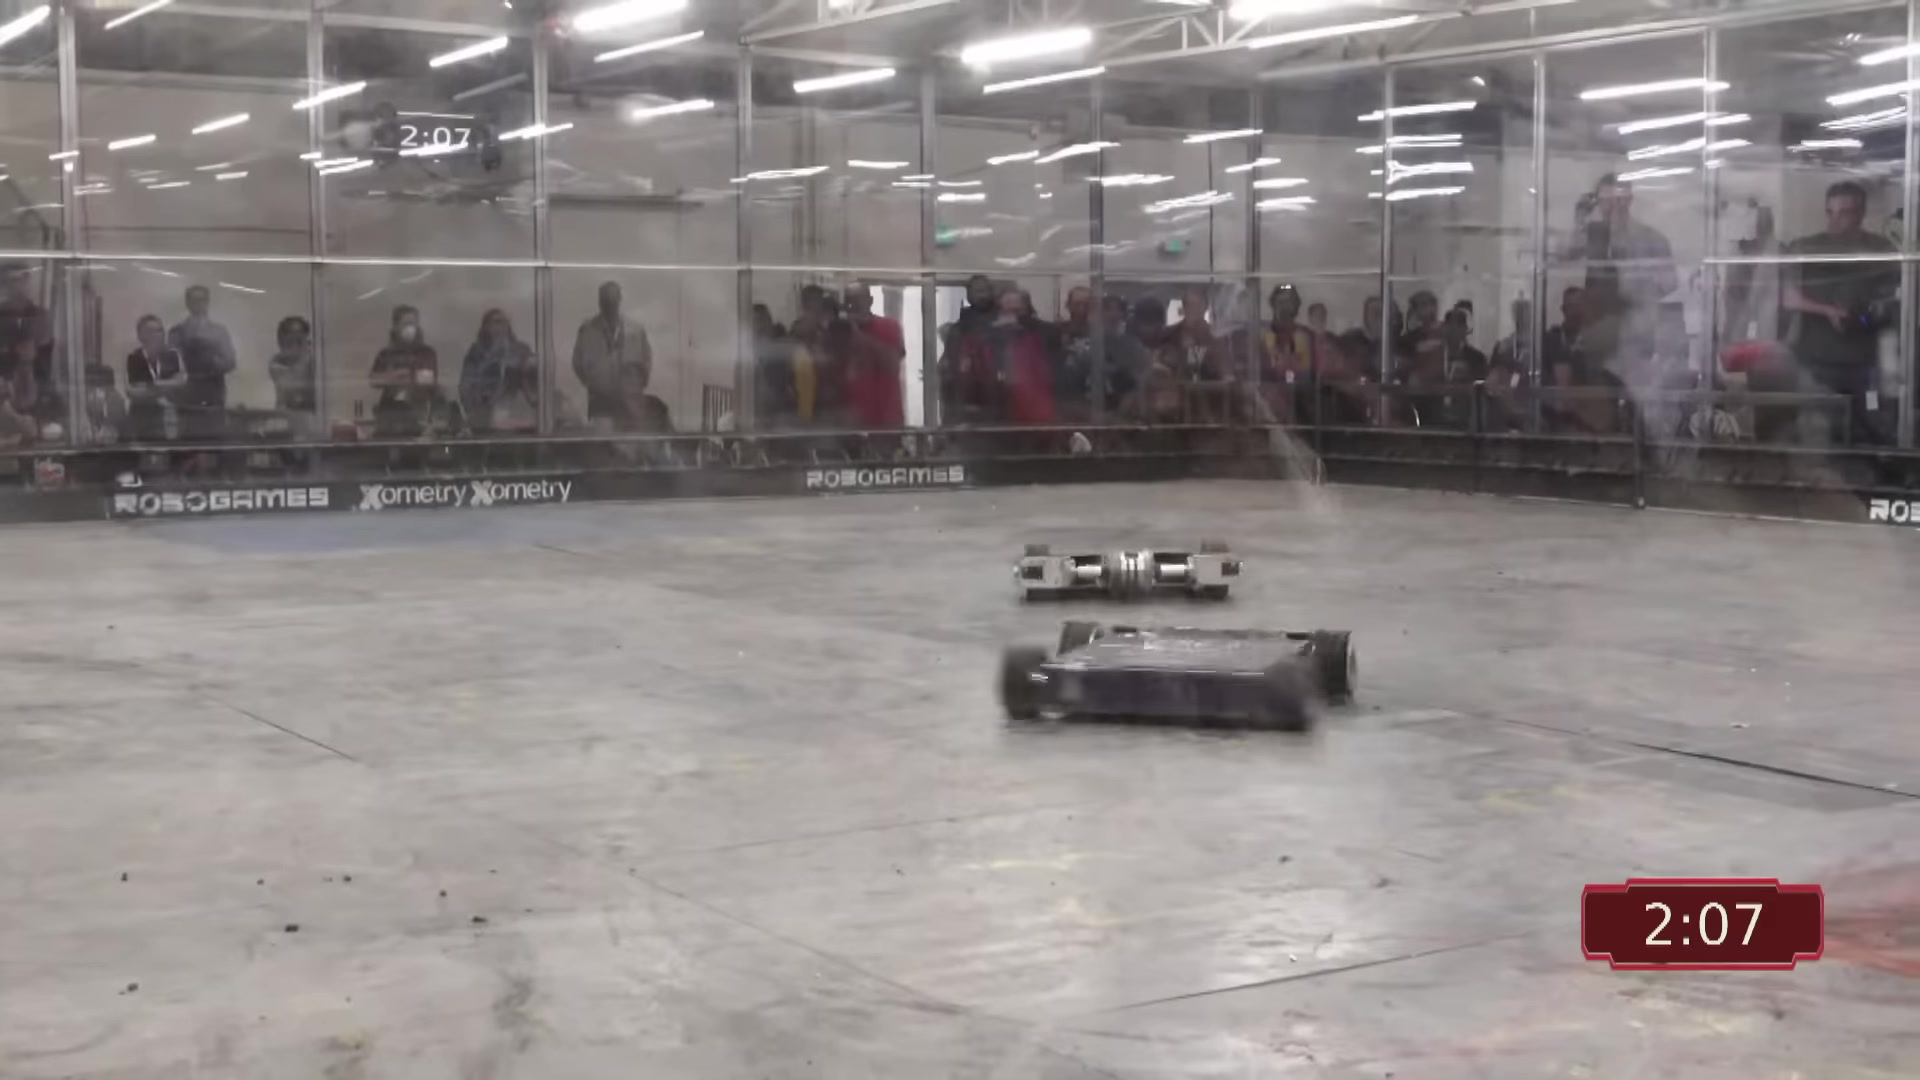combatbot: (1001, 618, 1358, 733), (1013, 542, 1240, 599)
